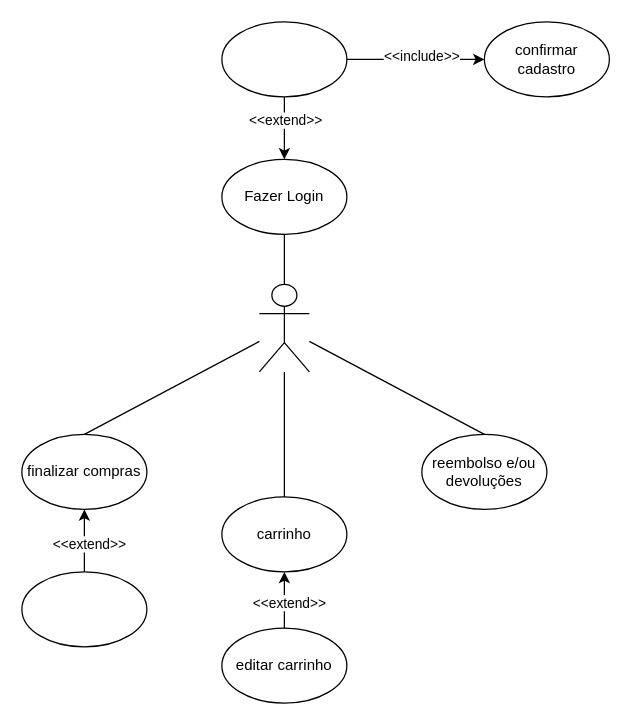
Image size: 631x725. Some labels were removed from this diagram. Each missing label, with the centre of its shape:
"avaliar serviços" goes at (x=84, y=609).
"Fazer Cadastro" goes at (x=284, y=59).
"usuário" goes at (x=283, y=327).
